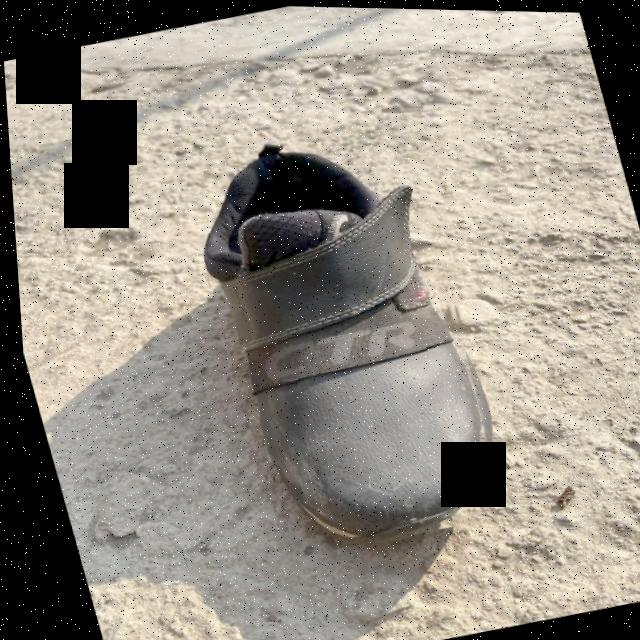shoe: (174, 118, 515, 562)
